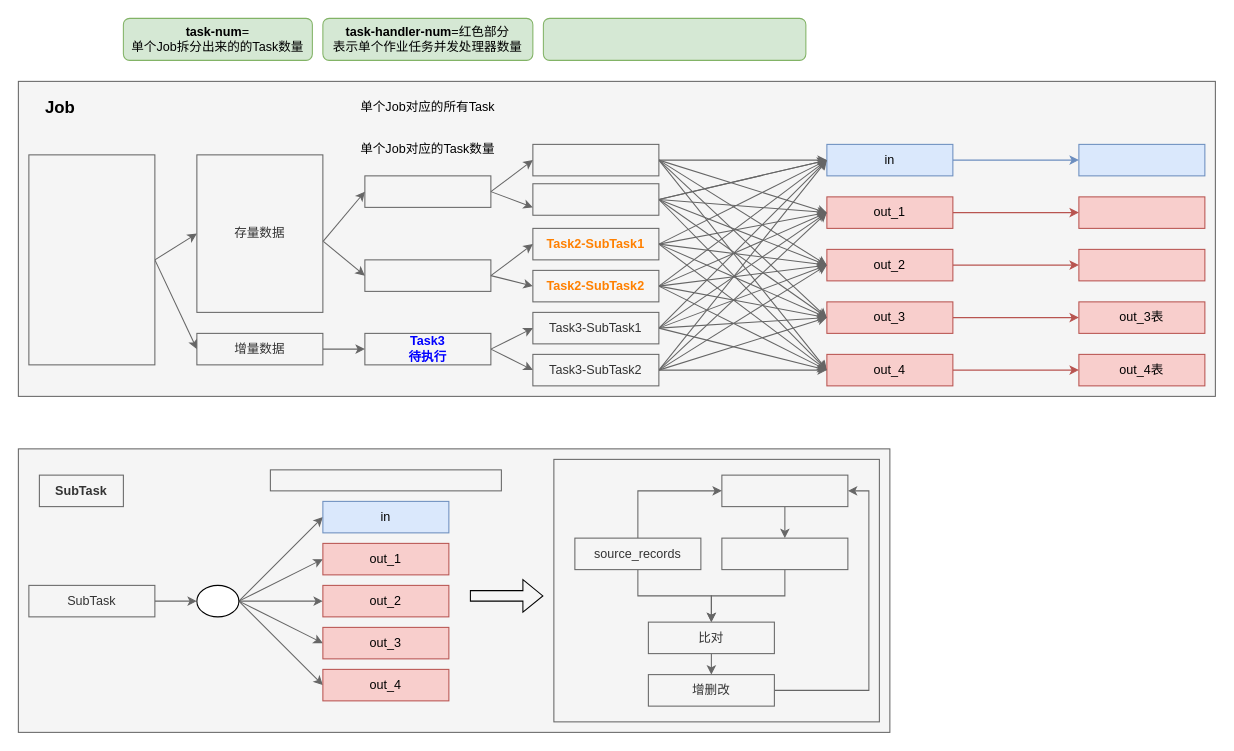
This 1234x751 diagram has some shape labels left out. The centre of each missing label's shape, as x and y in pixels:
"in表" goes at point (1141, 159).
"out_1表" goes at point (1141, 212).
"out_2表" goes at point (1141, 264).
"target_records" goes at point (784, 553).
"target_table" goes at point (784, 490).
"task-subhandler-num =橙色部分 表示单个Task中拆分子任务并发处理器数量" goes at point (674, 38).
"Task1 执行中" goes at point (427, 191).
"Task1-SubTask1" goes at point (595, 159).
"Task1-SubTask2" goes at point (595, 199).
"Task2 执行中" goes at point (427, 275).
"分发" goes at point (217, 600).
"单个表 所有数据" goes at point (91, 259).
"对应target_table的source_records" goes at point (385, 480).
